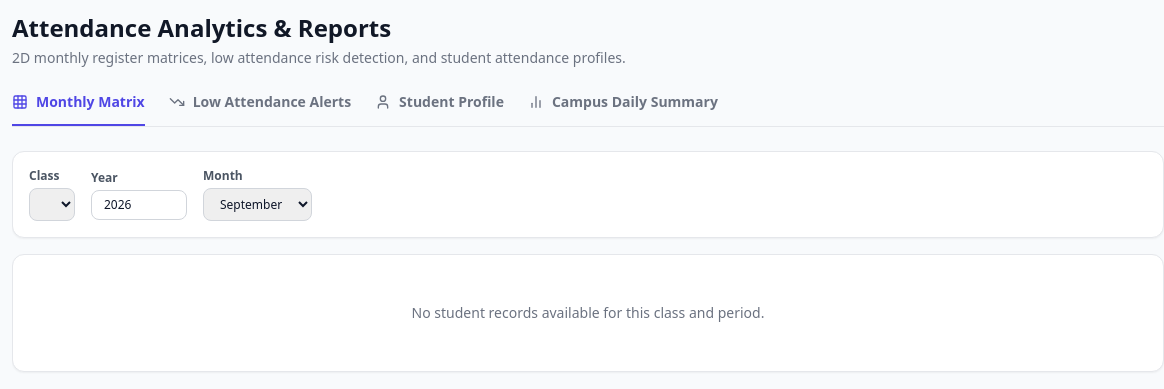
Phase 10: Attendance Management Web UI Integration › renders AttendanceReportsPage and switches between report tabs
expect the heading "Attendance Analytics & Reports" is shown: met, box [12,11,391,44]
expect the button "Monthly Matrix" is shown: met, box [12,92,145,126]
Note: Click Low Attendance tab
What coordinates should you click on to do the following:
click the button "Low Attendance Alerts"
I would click on:
 (260, 109)
Its box is [169,92,351,126].
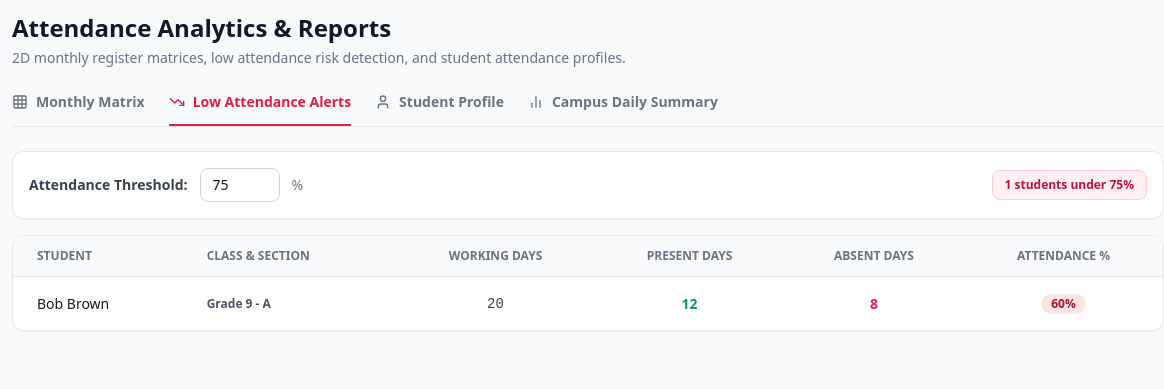
expect the text "Attendance Threshold:" is shown: met, box [29,175,188,195]
Note: Click Student Profile tab
What coordinates should you click on to do the following:
click the button "Student Profile"
I would click on:
 (440, 109)
Its box is [375,92,504,126].
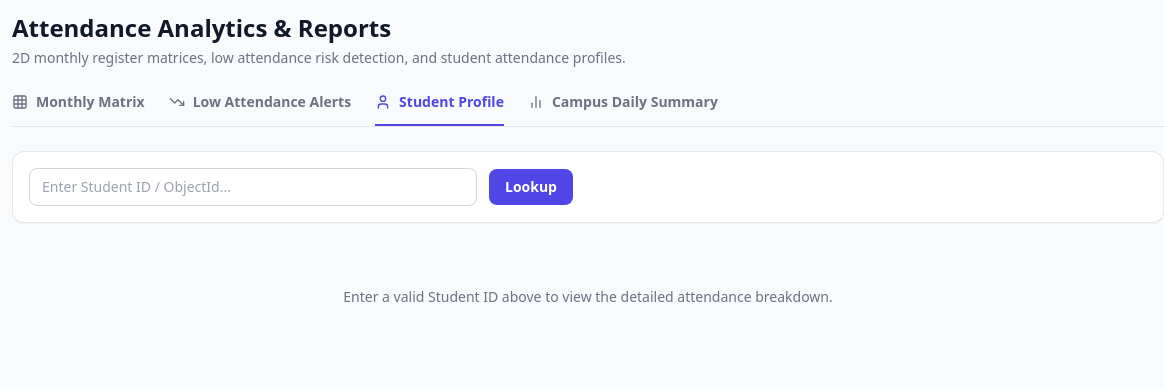
expect the field with placeholder "Enter Student ID / ObjectId..." is shown: met, box [29,168,477,206]
